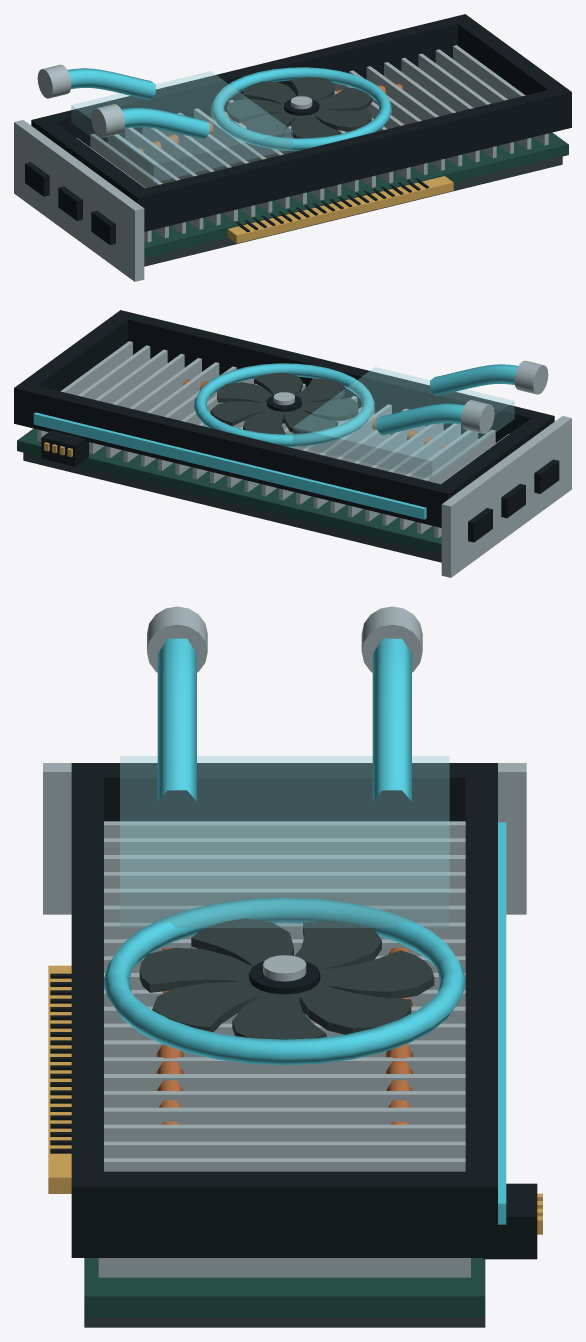
The model's file is gpu-hybrid.glb.
The picture shows the model from 3 angles, top to bottom: view 1: azimuth 30°, elevation 25°; view 2: azimuth 150°, elevation 25°; view 3: azimuth 270°, elevation 25°; orthographic projection. The views are drawn at different scales.
Parts seen in each view (by area): view 1: Rubber and ABS, Brushed aluminium, gpu-hybrid, Coolant blue, Anodized graphite, Contacts, fan-rotor; view 2: Rubber and ABS, Brushed aluminium, gpu-hybrid, Coolant blue, Anodized graphite, fan-rotor; view 3: Brushed aluminium, Rubber and ABS, gpu-hybrid, Coolant blue, Anodized graphite, Contacts, fan-rotor, Copper heat pipes.
Part boxes in pixels (x1=…): Rubber and ABS: x1=25, y1=14, x2=571, y2=245; Brushed aluminium: x1=14, y1=45, x2=548, y2=281; gpu-hybrid: x1=71, y1=71, x2=568, y2=266; Coolant blue: x1=67, y1=67, x2=391, y2=150; Anodized graphite: x1=227, y1=77, x2=372, y2=138; Contacts: x1=227, y1=176, x2=453, y2=243; fan-rotor: x1=284, y1=96, x2=319, y2=125; Rubber and ABS: x1=14, y1=310, x2=559, y2=542; Brushed aluminium: x1=37, y1=341, x2=571, y2=577; gpu-hybrid: x1=17, y1=367, x2=514, y2=562; Coolant blue: x1=33, y1=363, x2=518, y2=519; Anodized graphite: x1=210, y1=372, x2=358, y2=434; fan-rotor: x1=266, y1=392, x2=301, y2=423; Brushed aluminium: x1=43, y1=606, x2=526, y2=1277; Rubber and ABS: x1=50, y1=763, x2=537, y2=1259; gpu-hybrid: x1=84, y1=756, x2=485, y2=1327; Coolant blue: x1=104, y1=638, x2=506, y2=1224; Anodized graphite: x1=139, y1=918, x2=434, y2=1039; Contacts: x1=48, y1=965, x2=542, y2=1234; fan-rotor: x1=249, y1=955, x2=320, y2=1014; Copper heat pipes: x1=156, y1=948, x2=412, y2=1124.
Bounding box in the file's own units: 2.9 × 0.921 × 1.4.
